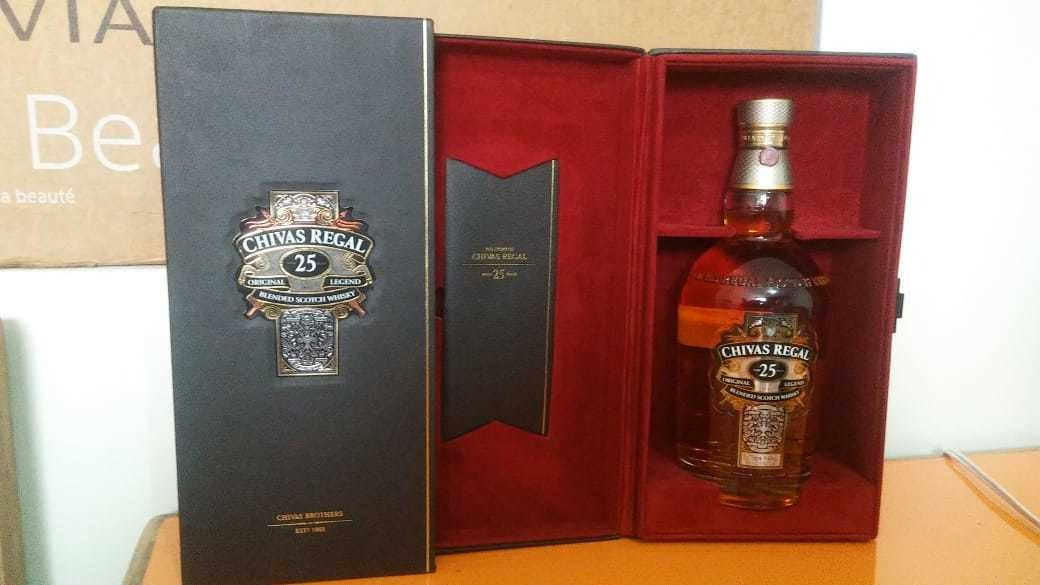Chivas Regal: (667, 91, 836, 516)
